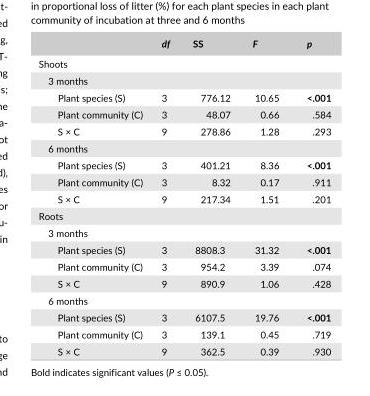table: (37, 37, 330, 356)
table column: (37, 37, 151, 356), (180, 37, 240, 356), (240, 37, 292, 356), (292, 37, 330, 356), (151, 37, 180, 356)
table column header: (37, 37, 330, 52)
table projected row header: (37, 52, 330, 71), (37, 71, 330, 88), (37, 139, 330, 156), (37, 206, 330, 223), (37, 223, 330, 240), (37, 291, 330, 308)
table row: (37, 52, 330, 71), (37, 71, 330, 88), (37, 88, 330, 105), (37, 105, 330, 122), (37, 122, 330, 139), (37, 139, 330, 156), (37, 156, 330, 173), (37, 189, 330, 206), (37, 206, 330, 223), (37, 223, 330, 240), (37, 240, 330, 257), (37, 257, 330, 274), (37, 274, 330, 291), (37, 291, 330, 308), (37, 308, 330, 325), (37, 325, 330, 342), (37, 173, 330, 189), (37, 37, 330, 52), (37, 342, 330, 356)
